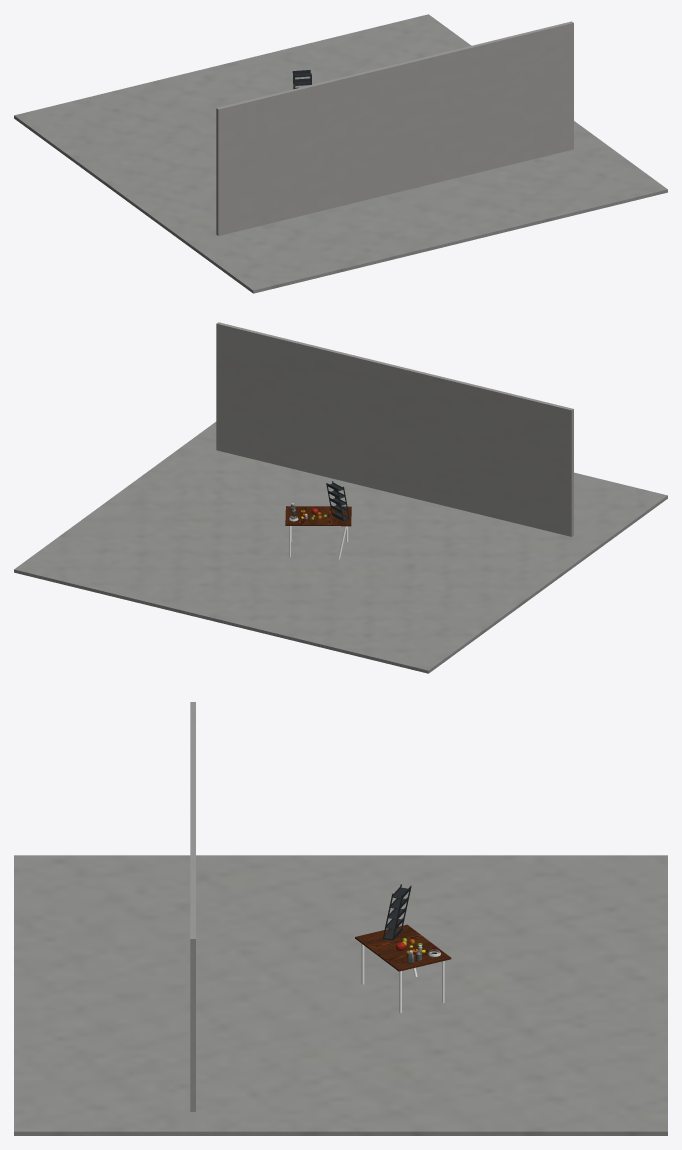
Rendered from ours.glb.
3 renders of one model, top to bottom at view 1: azimuth 30°, elevation 25°; view 2: azimuth 150°, elevation 25°; view 3: azimuth 270°, elevation 25°, orthographic. The views are drawn at different scales.
Visible parts, largest first — view 1: floor_0, wall_0; view 2: floor_0, wall_0, table_0; view 3: floor_0, wall_0, table_0.
Part boxes in pixels (x1,y1,x2,y2): floor_0: (14, 14, 667, 293); wall_0: (216, 21, 573, 235); floor_0: (14, 422, 667, 673); wall_0: (216, 322, 573, 536); table_0: (285, 506, 351, 559); floor_0: (14, 855, 667, 1135); wall_0: (190, 702, 195, 1111); table_0: (355, 924, 451, 1012).
Size of the model in its own units: 7 by 2.09 by 7.
21 materials, 20 textured.
